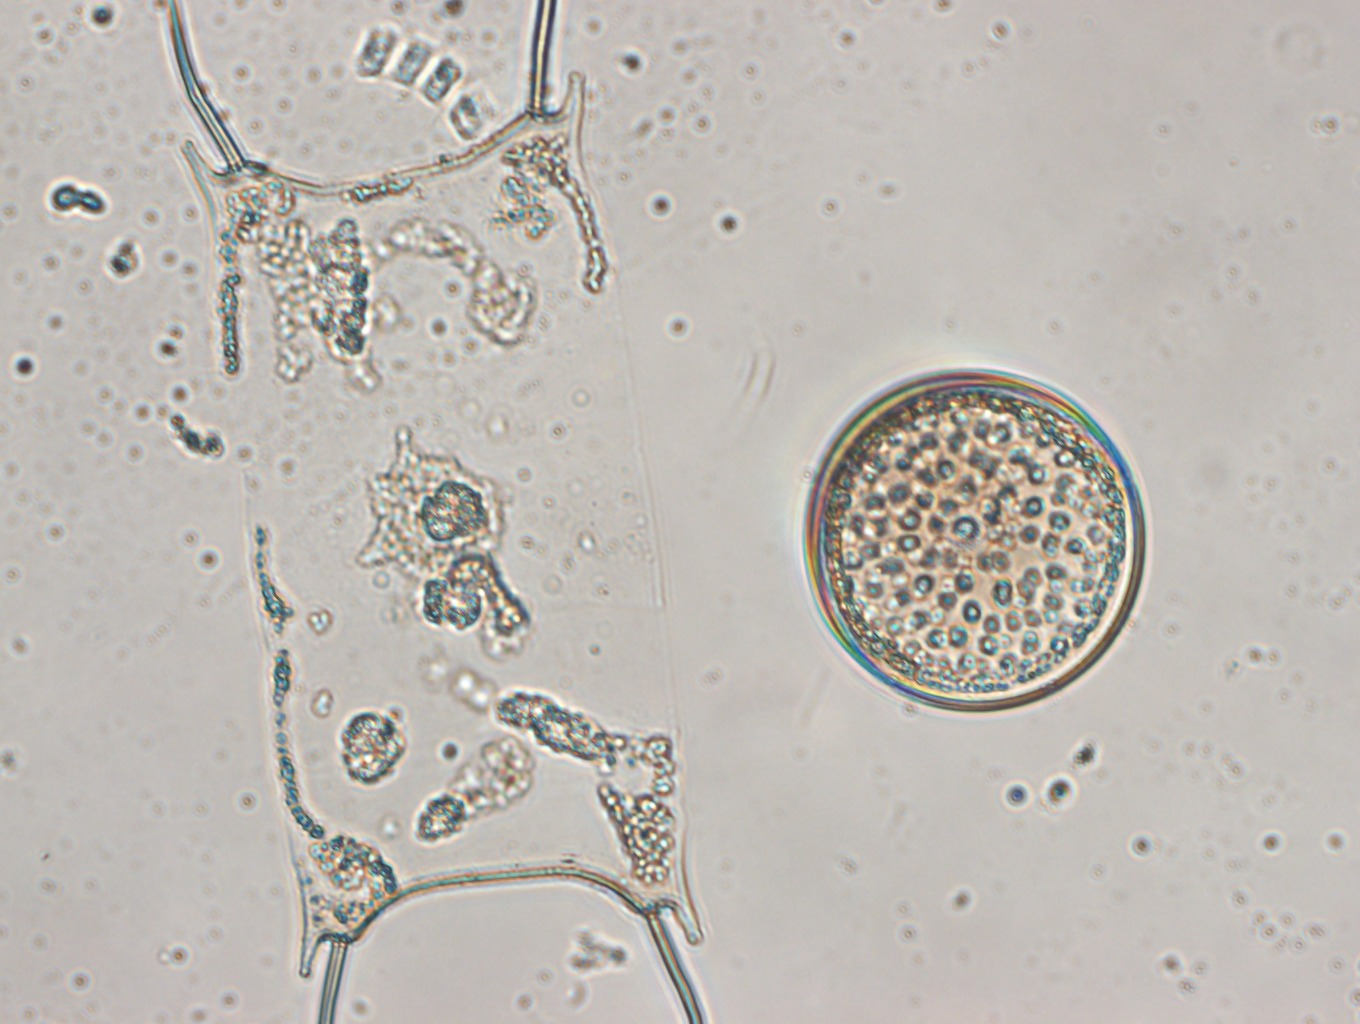biddulphia: (159, 1, 703, 1024)
coscinodiscus: (802, 367, 1147, 716)
